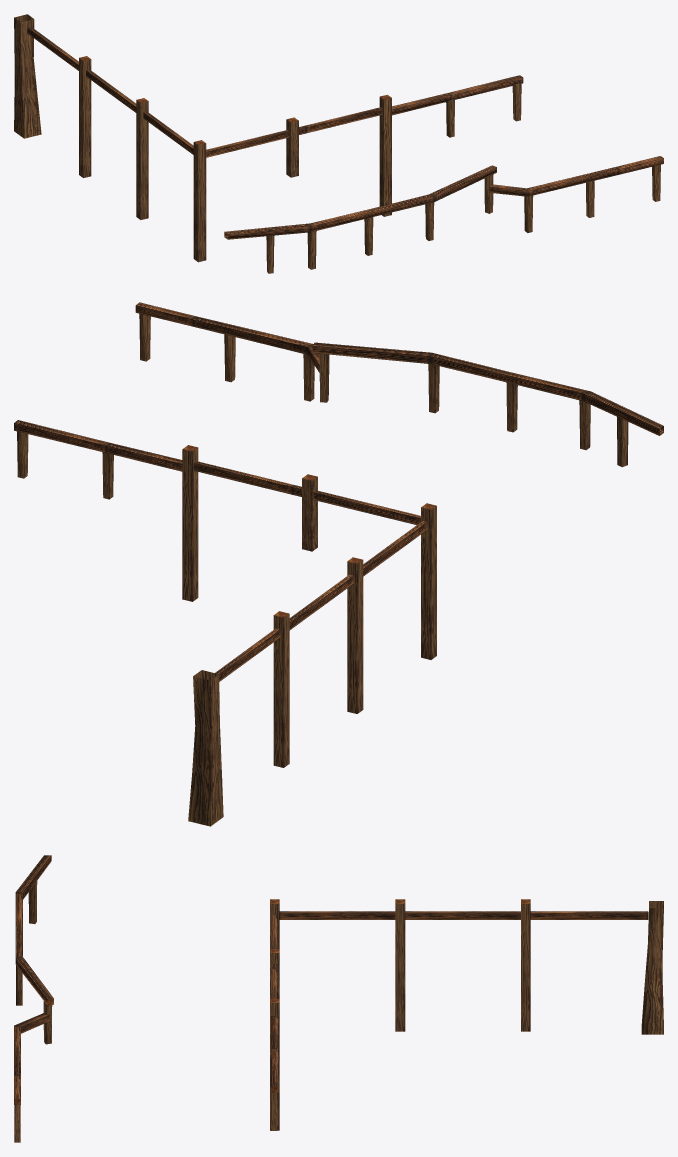
Rendered from LAKETOWN_EXTERIOR_PS_LT_HANDRAILS_3939__GX.fbx.
The picture shows the model from 3 angles, top to bottom: view 1: azimuth 30°, elevation 25°; view 2: azimuth 150°, elevation 25°; view 3: azimuth 270°, elevation 25°; orthographic projection. The views are drawn at different scales.
Parts seen in each view (by area): view 1: LAKETOWN_EXTERIOR_PS_LT_HANDRAILS_3939__GX; view 2: LAKETOWN_EXTERIOR_PS_LT_HANDRAILS_3939__GX; view 3: LAKETOWN_EXTERIOR_PS_LT_HANDRAILS_3939__GX.
Part boxes in pixels (x1,y1,x2,y2): LAKETOWN_EXTERIOR_PS_LT_HANDRAILS_3939__GX: [14, 14, 663, 273]; LAKETOWN_EXTERIOR_PS_LT_HANDRAILS_3939__GX: [14, 302, 663, 826]; LAKETOWN_EXTERIOR_PS_LT_HANDRAILS_3939__GX: [14, 855, 663, 1142].
Size of the model in its own units: 102761 by 28346 by 125348.
Materials: 4 (4 with a texture image).
